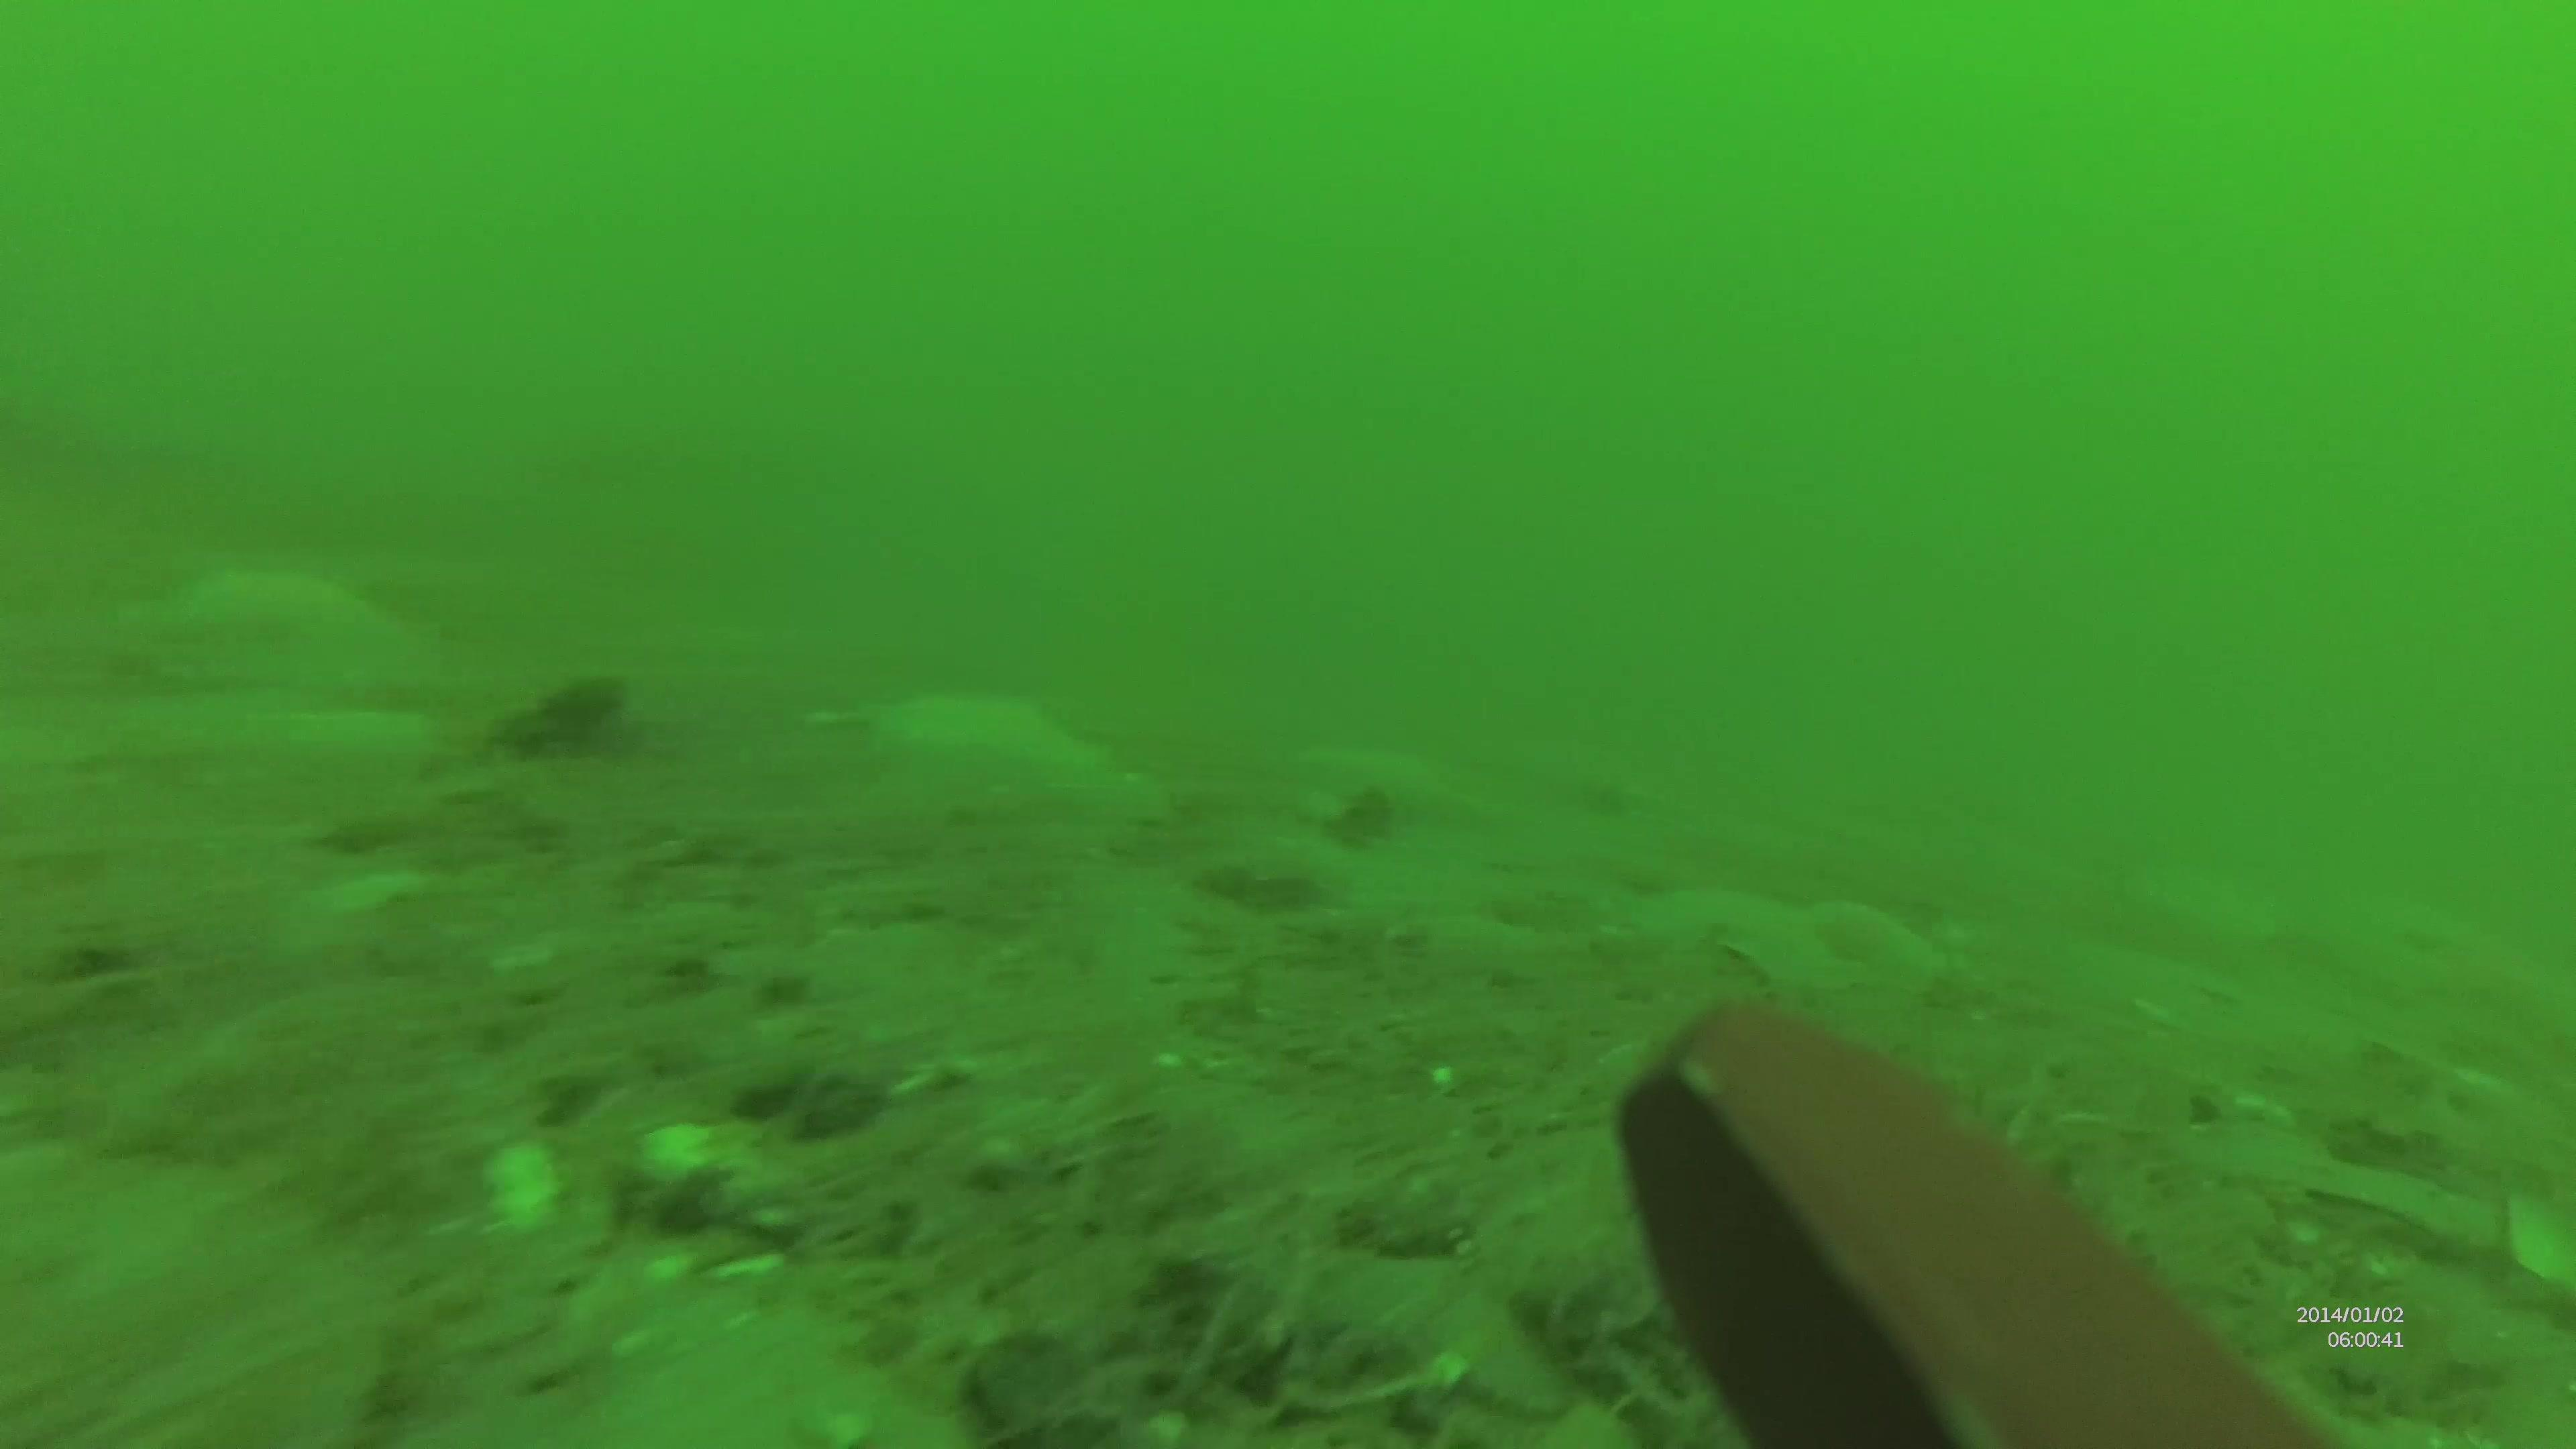starfish: (5, 1131, 405, 1449), (131, 584, 455, 697), (1635, 883, 1867, 993), (867, 694, 1115, 796), (1822, 904, 1934, 1001)
